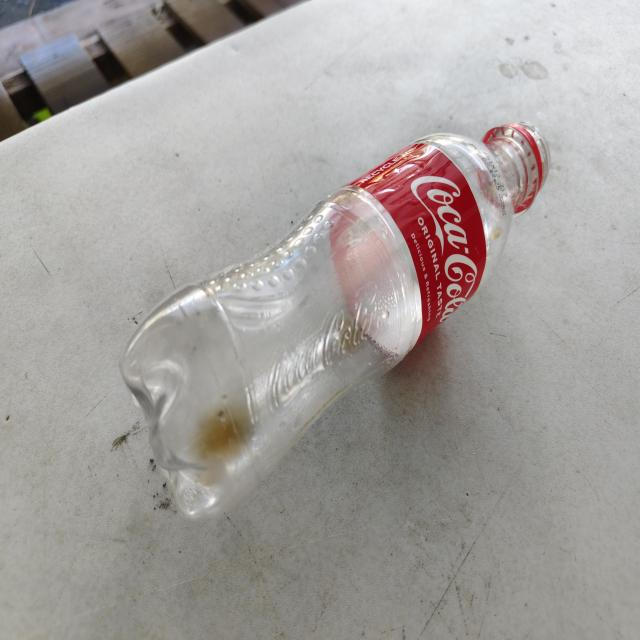Bottle: (120, 122, 550, 517)
